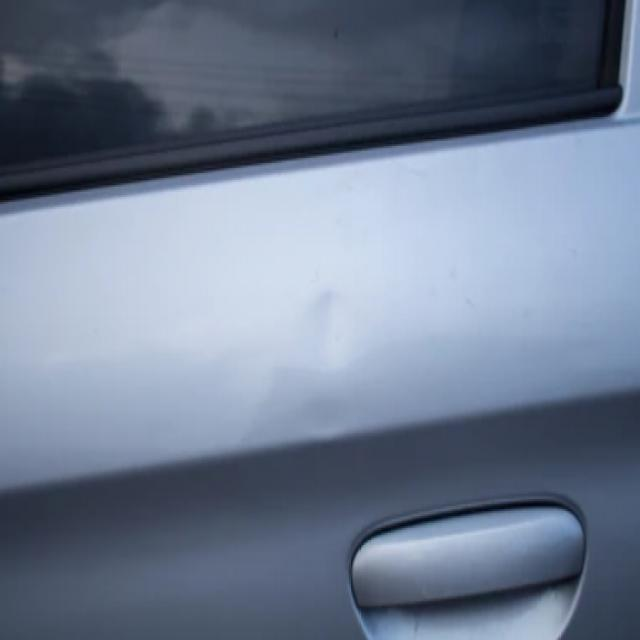dents: (287, 264, 362, 381)
